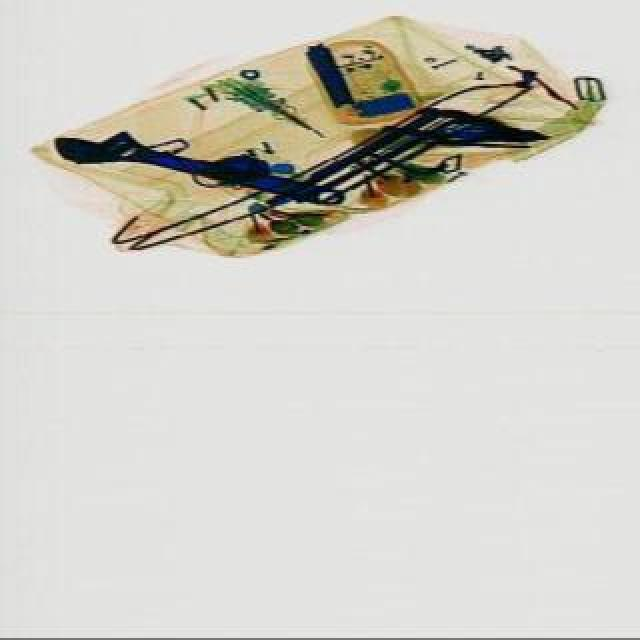scissors: (48, 118, 346, 214)
wrench: (408, 104, 546, 154)
